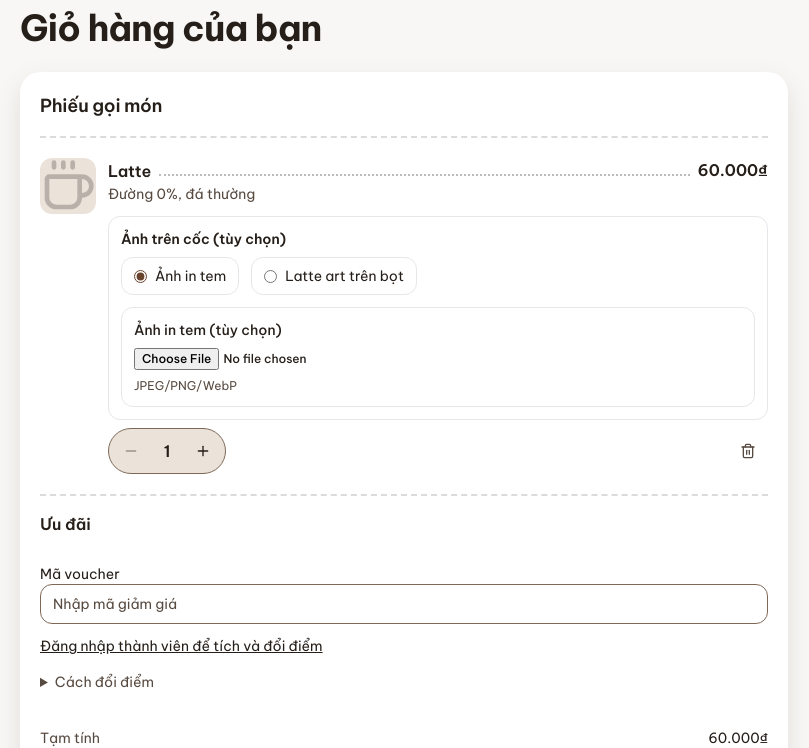
it: members and promotions UI › keeps both selections and stops when server rejects the balance
In the field labelled "Mã voucher": (404, 604) [40, 584, 768, 624], type "SAVE10"
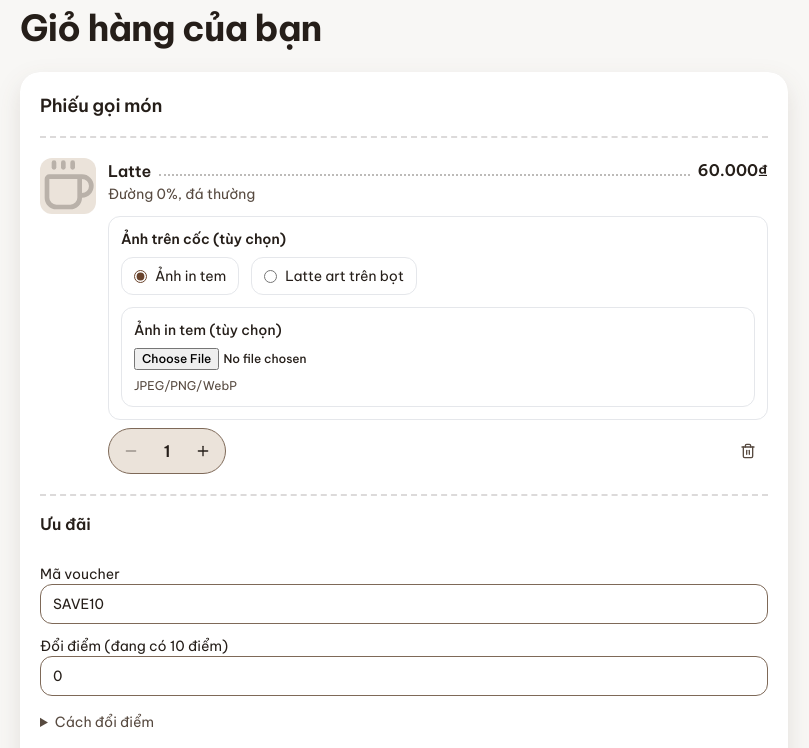
Replace the text in the number field named "Điểm muốn đổi" with "10": (404, 676) [40, 656, 768, 696]
(page scrolled)
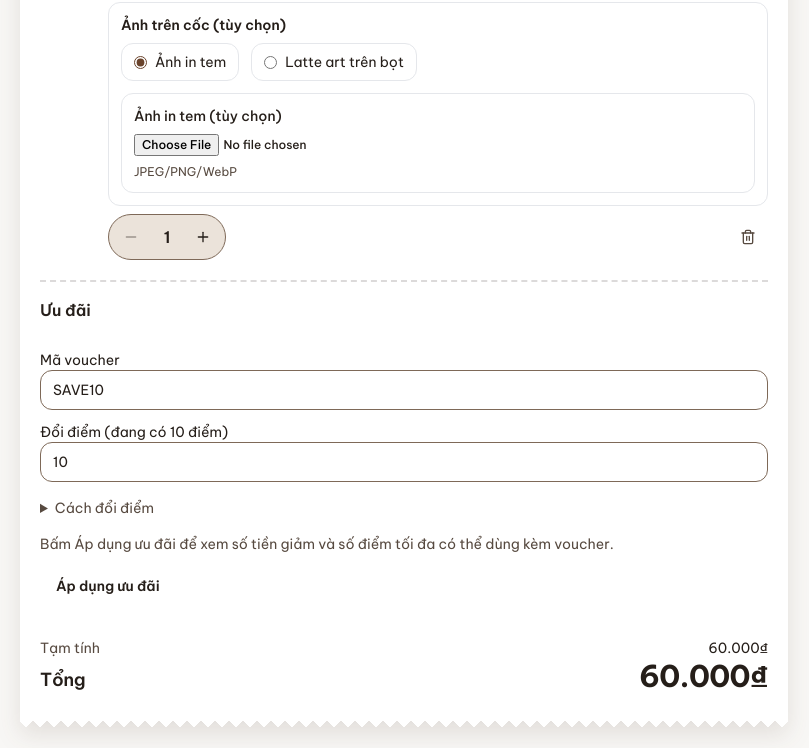
Click the button "Áp dụng ưu đãi": click(108, 586) [40, 566, 176, 606]
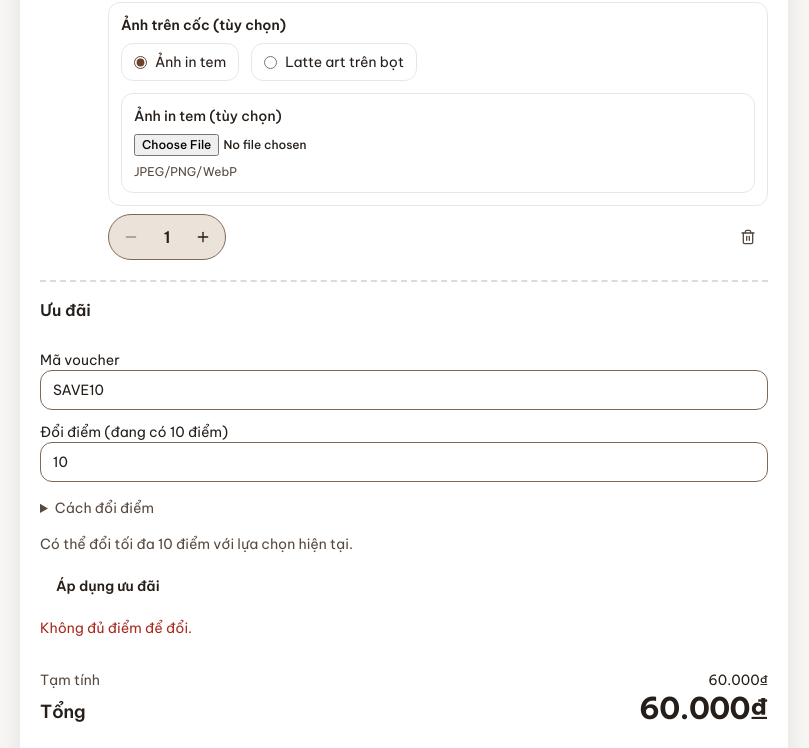
expect the text "Không đủ điểm để đổi." is shown: met, box [40, 619, 192, 637]
